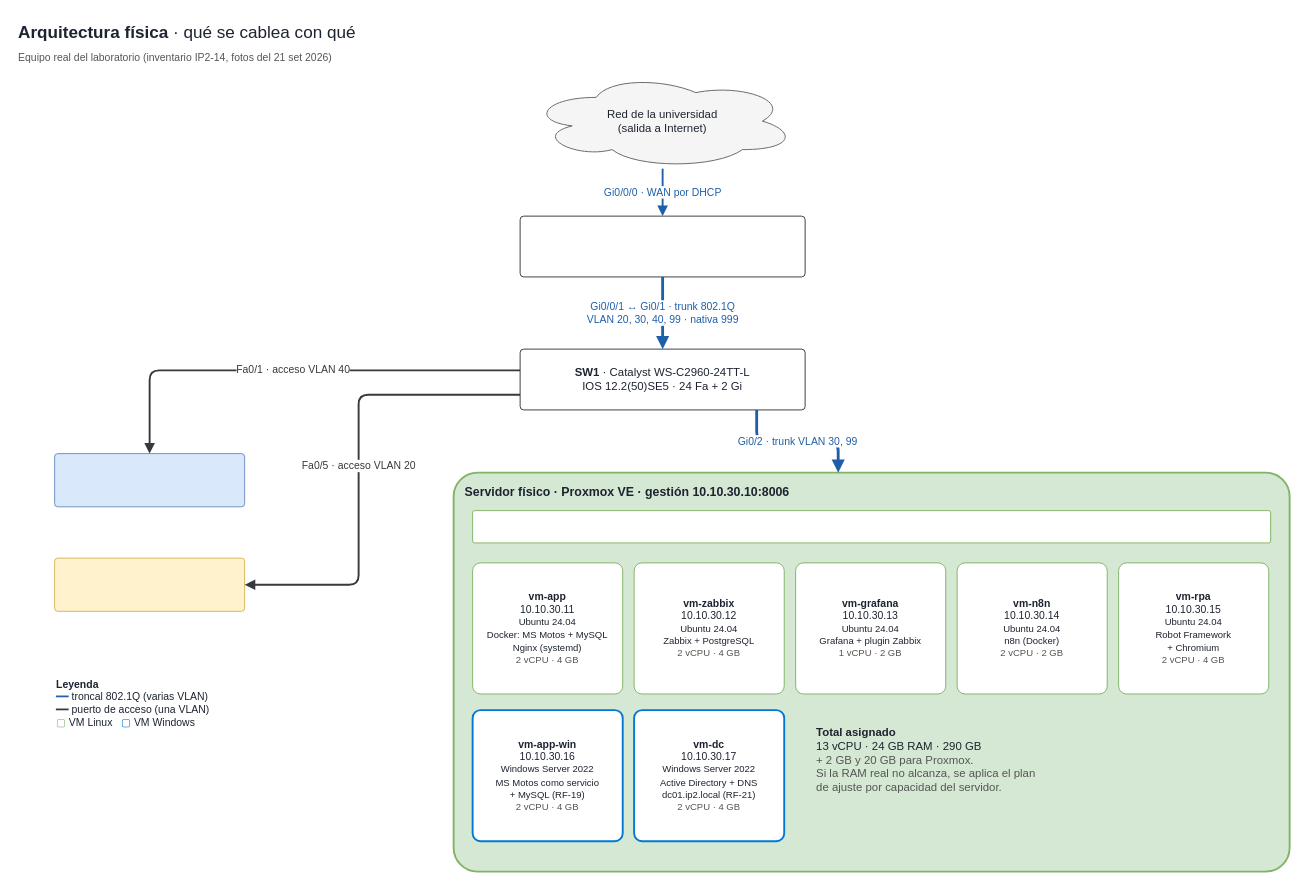
Some shapes in this 1306 by 888 pixel diagram are drawn without their labels. The shapes that lost their labels are listed below. From the top down, each one's centre as x and y in pixels, then its label:
(662,246): R1 · Cisco ISR 4221 IOS XE · router-on-a-stick, NAT/PAT, DHCP
(149,480): PC-ADMIN VLAN 40 · 10.10.40.10
(871,526): vmbr0 · bridge VLAN aware · cada VM con tag 30
(149,584): PC-CLIENTE VLAN 20 · IP por DHCP
